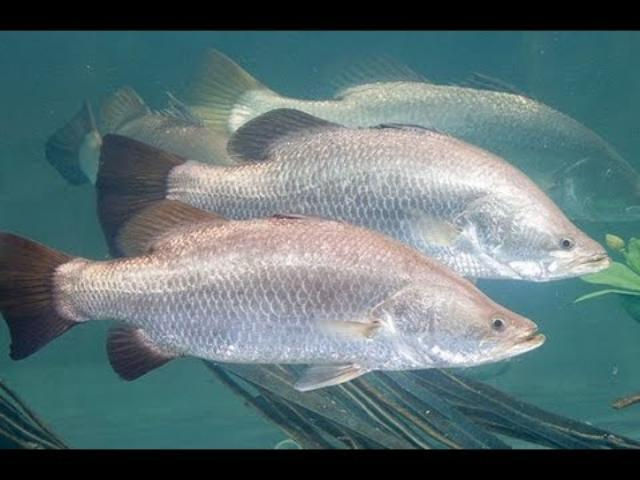Mulut: (464, 312, 570, 380), (538, 223, 624, 292)
Sirip Anal: (98, 315, 192, 395)
Sirip Dada: (295, 298, 391, 362)
Sirip Ekor: (88, 128, 208, 272), (0, 228, 90, 388), (26, 88, 102, 194)
Sirip Perut: (286, 354, 386, 409)
Sirip Punggung: (101, 192, 341, 264), (304, 42, 528, 115), (220, 98, 428, 170)
